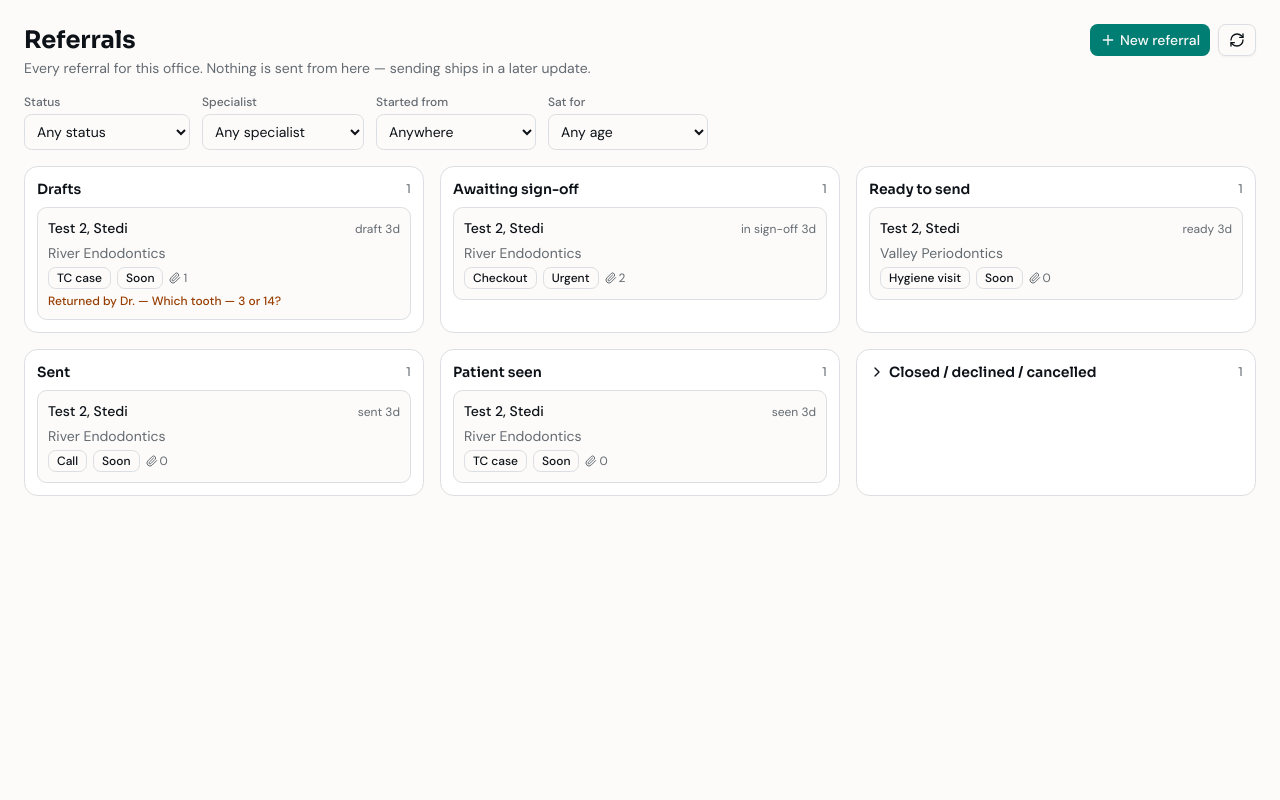
the detail panel › sent and beyond: read-only — no edit of any kind, only the next attestation
Click the 4th button with test id "tc-hub-card".
click(88, 411)  # box top-left (37, 390), bottom-right (411, 483)
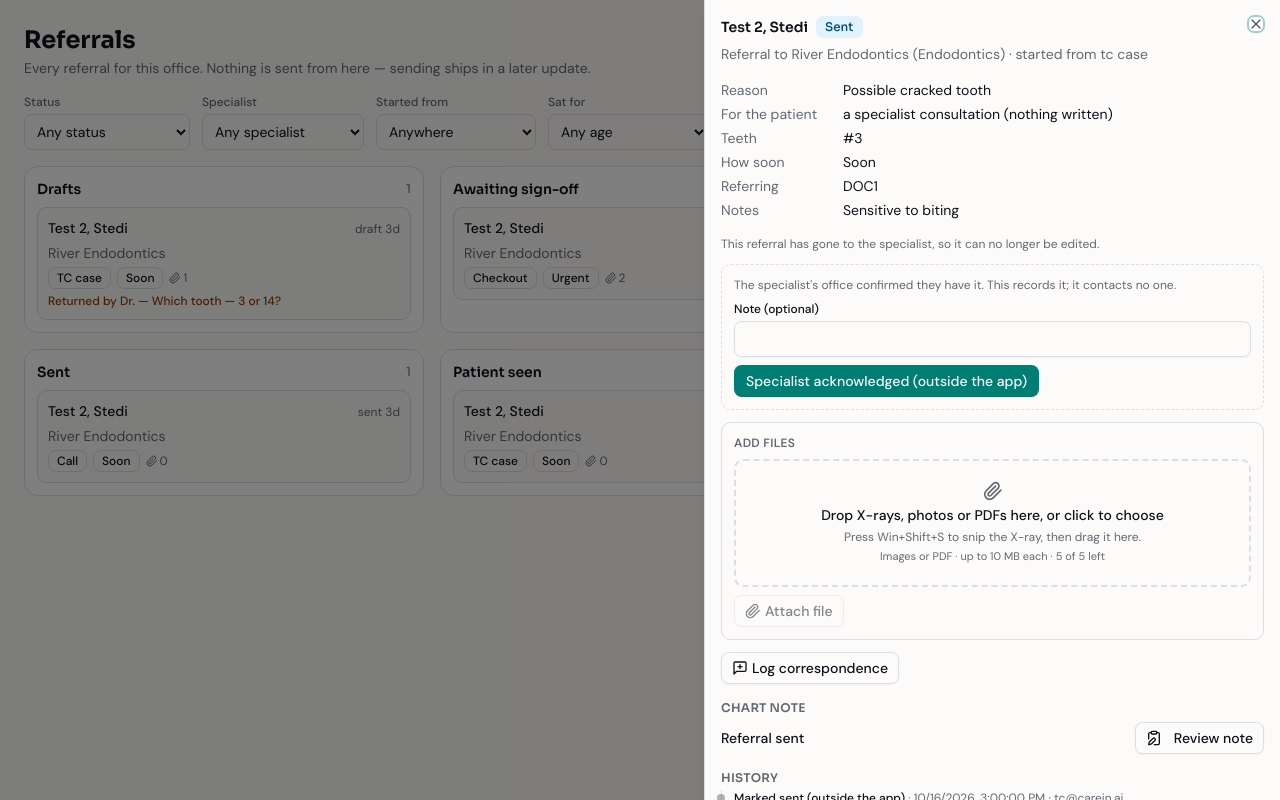
Result: the list with test id "referral-timeline" is shown at top-left (721, 790), bottom-right (1264, 799)
Result: the text with test id "tc-hub-readonly" shows "can no longer be edited" at top-left (721, 236), bottom-right (1099, 252)
Result: the button "Specialist acknowledged (outside the app)" is enabled at top-left (734, 365), bottom-right (1039, 397)
